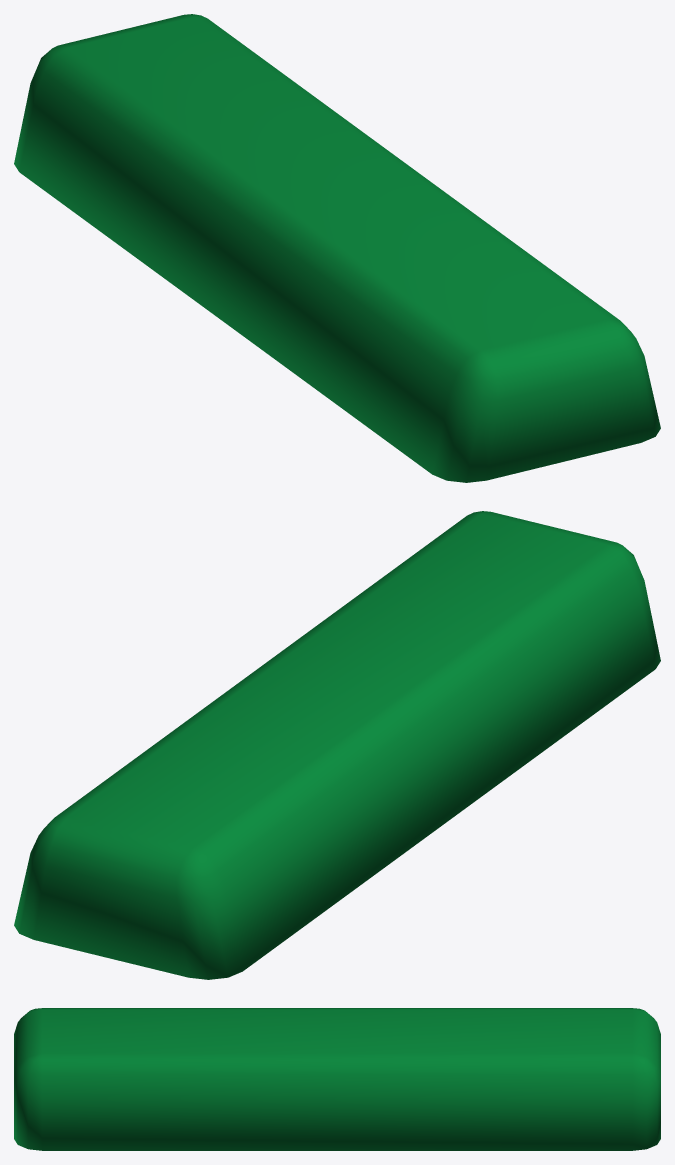
File: Small Chocolate Bar.obj
3 views of the same model, one above another, from view 1: azimuth 30°, elevation 25°; view 2: azimuth 150°, elevation 25°; view 3: azimuth 270°, elevation 25° (orthographic). The views are drawn at different scales.
Parts seen in each view (by area): view 1: Small_Chocolate_Bar; view 2: Small_Chocolate_Bar; view 3: Small_Chocolate_Bar.
Part boxes in pixels (x1=…): Small_Chocolate_Bar: x1=14, y1=14, x2=660, y2=482; Small_Chocolate_Bar: x1=14, y1=511, x2=660, y2=979; Small_Chocolate_Bar: x1=14, y1=1008, x2=660, y2=1150.
Size of the model in its own units: 6.99 by 3.36 by 24.53.
